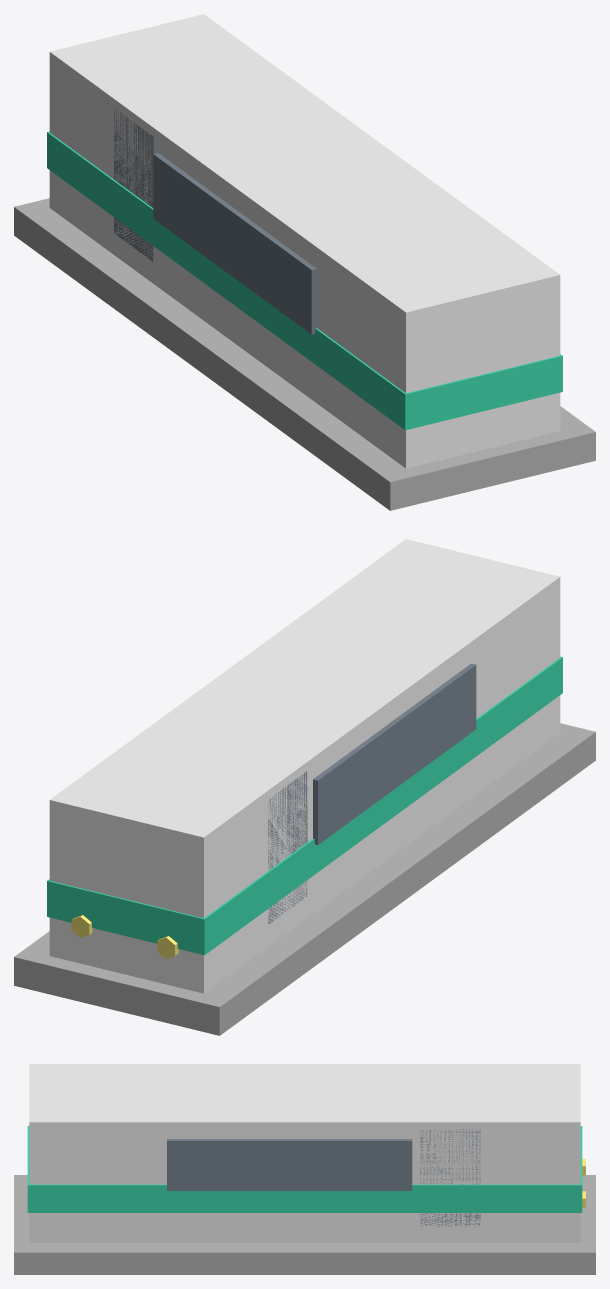
File: bts_skytrain.glb
The picture shows the model from 3 angles, top to bottom: view 1: azimuth 30°, elevation 25°; view 2: azimuth 150°, elevation 25°; view 3: azimuth 270°, elevation 25°; orthographic projection. The views are drawn at different scales.
Parts seen in each view (by area): view 1: BTS_Coach, BTS_Track, BTS_Stripe, BTS_WinL_0, BTS_WinL_2, BTS_WinL_1, BTS_Nose; view 2: BTS_Coach, BTS_Track, BTS_Stripe, BTS_WinL_1, BTS_WinL_2, BTS_WinL_0, BTS_Nose; view 3: BTS_Coach, BTS_Track, BTS_Stripe, BTS_WinR_0, BTS_WinR_1, BTS_WinR_2, BTS_Nose.
Part boxes in pixels (left/top/right/bottom): BTS_Coach: left=49, top=14, right=560, bottom=468; BTS_Track: left=14, top=198, right=595, bottom=510; BTS_Stripe: left=47, top=131, right=562, bottom=430; BTS_WinL_0: left=252, top=226, right=316, bottom=334; BTS_WinL_2: left=153, top=153, right=217, bottom=261; BTS_WinL_1: left=203, top=189, right=266, bottom=297; BTS_Nose: left=114, top=108, right=153, bottom=261; BTS_Coach: left=49, top=539, right=560, bottom=993; BTS_Track: left=14, top=723, right=595, bottom=1035; BTS_Stripe: left=47, top=656, right=562, bottom=955; BTS_WinL_1: left=362, top=700, right=426, bottom=808; BTS_WinL_2: left=313, top=737, right=376, bottom=844; BTS_WinL_0: left=415, top=663, right=476, bottom=764; BTS_Nose: left=268, top=771, right=307, bottom=923; BTS_Coach: left=29, top=1064, right=580, bottom=1242; BTS_Track: left=14, top=1175, right=595, bottom=1274; BTS_Stripe: left=27, top=1126, right=582, bottom=1212; BTS_WinR_0: left=167, top=1139, right=258, bottom=1190; BTS_WinR_1: left=243, top=1139, right=335, bottom=1190; BTS_WinR_2: left=320, top=1139, right=412, bottom=1190; BTS_Nose: left=420, top=1129, right=480, bottom=1226.
Size of the model in its own units: 1.2 by 1.03 by 3.8.
